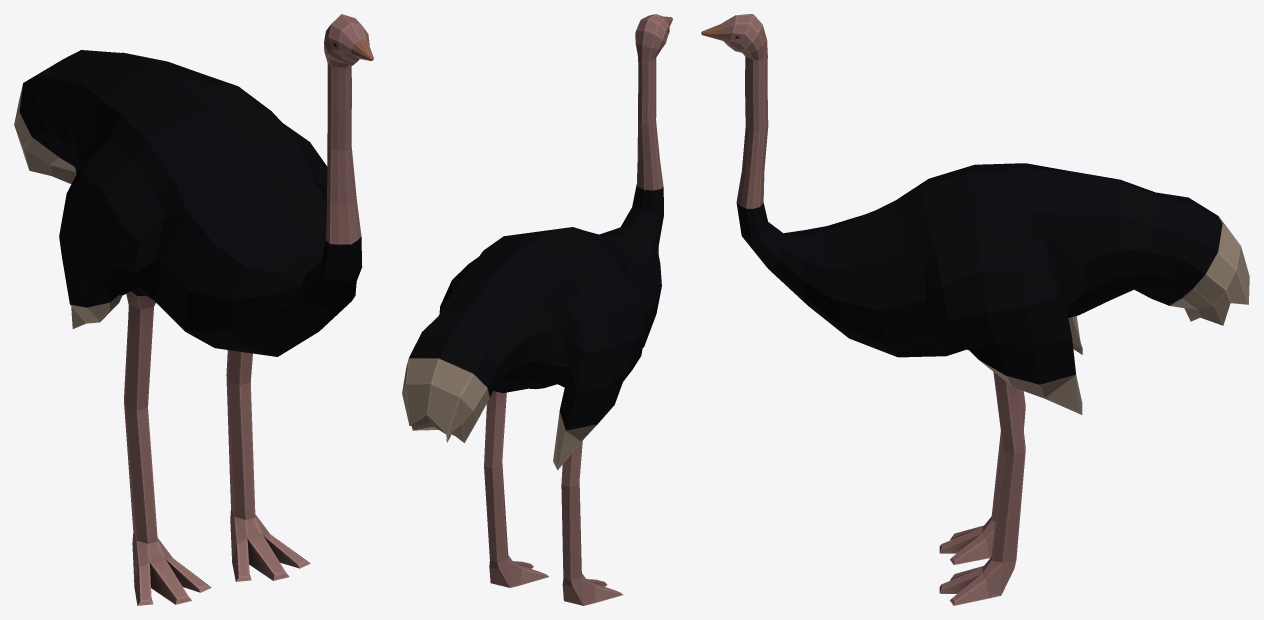
The model's file is struts.glb.
The picture shows the model from 3 angles, left to right: view 1: azimuth 30°, elevation 25°; view 2: azimuth 150°, elevation 25°; view 3: azimuth 270°, elevation 25°; orthographic projection. The views are drawn at different scales.
Parts seen in each view (by area): view 1: node-0; view 2: node-0; view 3: node-0.
Boxes of the visible parts, x1=… form: node-0: x1=14, y1=14, x2=373, y2=605; node-0: x1=402, y1=14, x2=672, y2=605; node-0: x1=701, y1=14, x2=1249, y2=605.
Bounding box in the file's own units: 4.26 × 11.34 × 10.15.
Materials: 1 (1 with a texture image).
